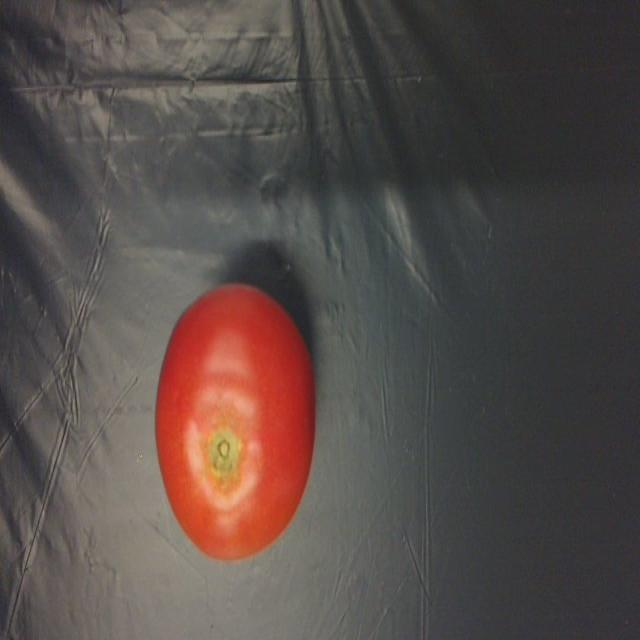kirmizi: (159, 278, 320, 568)
